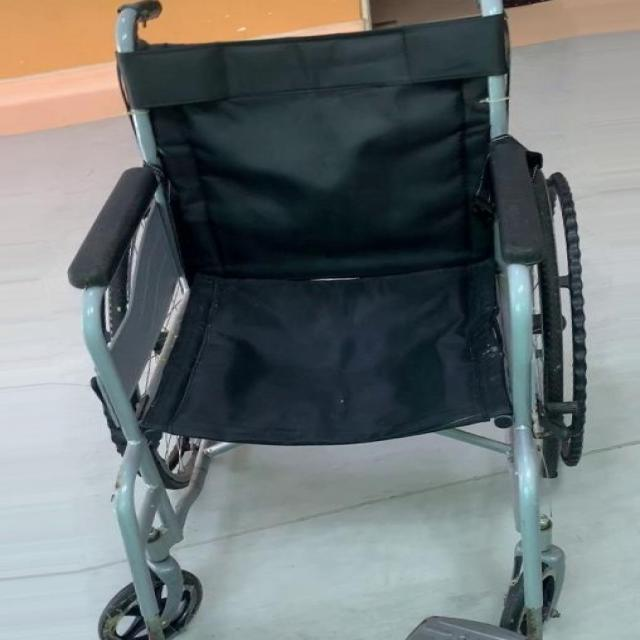wheelchair: (45, 0, 622, 639)
